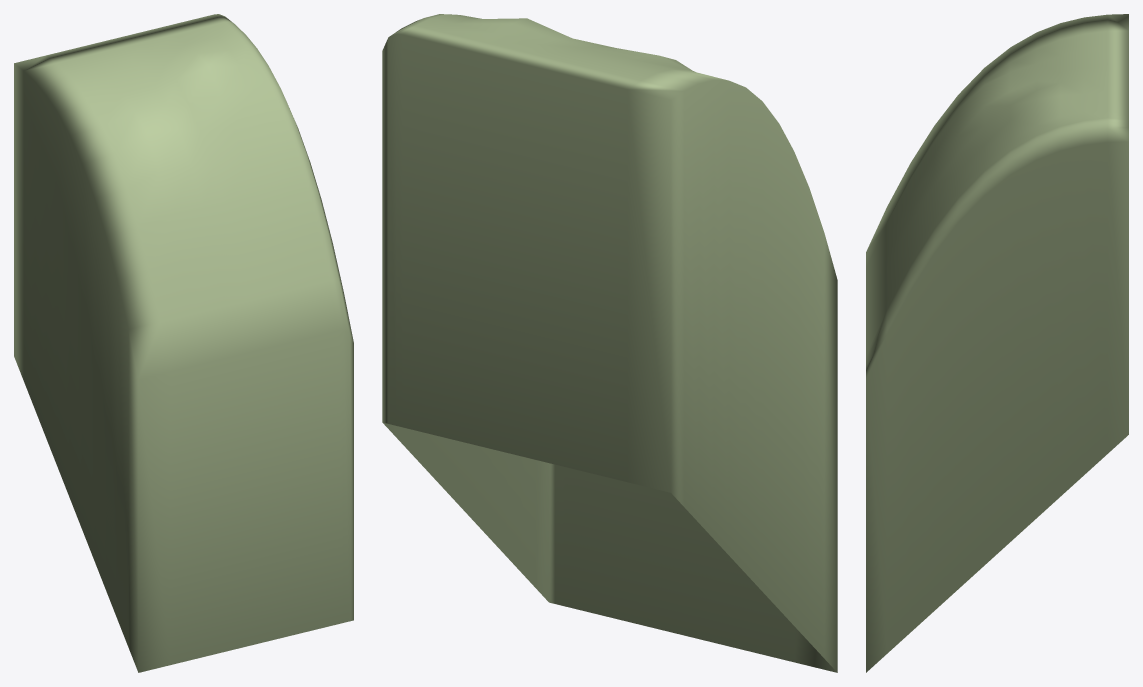
The model's file is ground-ramp-r-31.glb.
The picture shows the model from 3 angles, left to right: view 1: azimuth 30°, elevation 25°; view 2: azimuth 150°, elevation 25°; view 3: azimuth 270°, elevation 25°; orthographic projection. The views are drawn at different scales.
Parts seen in each view (by area): view 1: ground-ramp-r-31; view 2: ground-ramp-r-31; view 3: ground-ramp-r-31.
Boxes of the visible parts, x1,y1,x2,y2 form: ground-ramp-r-31: (14, 14, 353, 672); ground-ramp-r-31: (382, 14, 837, 672); ground-ramp-r-31: (866, 14, 1128, 672).
Bounding box in the file's own units: 1 × 2.3 × 1.
